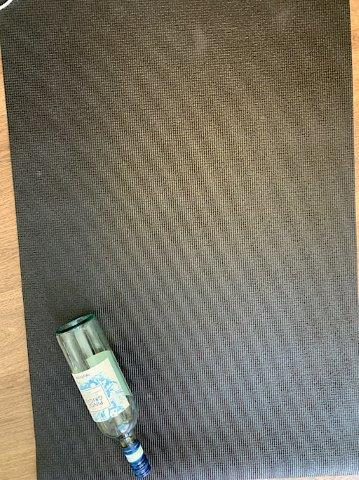botolkaca: (53, 313, 152, 476)
